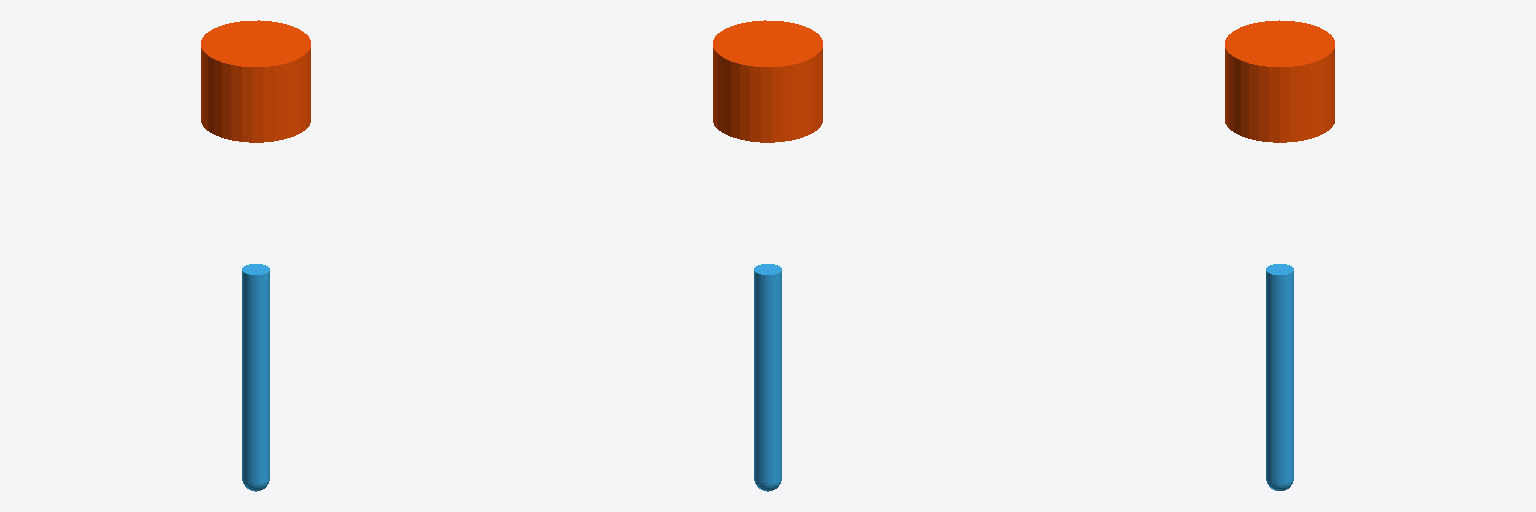
The robot description file, URDF, robot "bravo7":
<?xml version="1.0" encoding="utf-8"?>
<robot name="bravo7">
<material name="green2">
  <color rgba="0.235 0.702 0.443 1"/>
</material>

<material name="blue">
  <color rgba="0.263 0.733 0.984 1"/>
</material>

<material name="trans_black">
  <color rgba="0.8 0.8 0.8 1"/>
</material>

<material name="black2">
  <color rgba="0.8 0.8 0.8 1"/>
</material>


<material name="orange">
  <color rgba="1 0.369 0.047 1"/>
</material>

<material name="green">
  <color rgba="0 1 0 0.5"/>
</material>

<material name="bravo_black">
  <color rgba="0.3 0.3 0.3 0.7"/>
</material>

<material name="bravo_jaws_black">
    <color rgba="0.3 0.3 0.3 1"/>
</material>


<link name="bravo_base_link"/>


<link name="link1">
    <visual>
        <geometry>
            <mesh filename="package://bravo_description/meshes/RS2-266.stl"/>
        </geometry>
        <material name="blue"/>
    </visual>
</link>

        <joint name="base_fixed" type="fixed">
            <parent link="bravo_base_link"/>
            <child link="link1"/>
            <origin rpy="0 0 0"/>
        </joint>

<link name="link2">
    <visual>
        <geometry>
            <mesh filename="package://bravo_description/meshes/RS2-217.stl"/>
        </geometry>
        <material name="green2"/>
        </visual>
</link>

        <joint name="joint1" type="revolute">
            <parent link="link1"/>
            <child link="link2"/>
            <origin rpy="0 0 0" xyz="0.0665 0 0.078"/>
            <axis xyz="0 0 -1"/>
            <limit effort="9.0" lower="0.0" upper="6.3" velocity="0.5"/>
        </joint>

<link name="link3">
    <visual>
        <geometry>
            <mesh filename="package://bravo_description/meshes/RS2-250-212-214.stl"/>
        </geometry>
        <material name="blue"/>
    </visual>
</link>

        <joint name="joint2" type="revolute">
            <parent link="link2"/>
            <child link="link3"/>
            <origin rpy="0 0 0" xyz="-0.046 0 0.0674"/>
            <axis xyz="0 1 0"/>
            <limit effort="9.0" lower="0.0" upper="3.5" velocity="0.5"/>
        </joint>

<link name="link4">
    <visual>
        <geometry>
            <mesh filename="package://bravo_description/meshes/RS2-268.stl"/>
        </geometry>
        <material name="green2"/>
    </visual>
</link>

        <joint name="joint3" type="revolute">
            <parent link="link3"/>
            <child link="link4"/>
            <origin rpy="0 0 0" xyz="-0.0052 0 -0.29055"/>
            <axis xyz="0 1 0"/>
            <limit effort="9.0" lower="0.0" upper="3.5" velocity="0.5"/>
        </joint>


<link name="link5">
    <visual>
        <geometry>
            <mesh filename="package://bravo_description/meshes/RS2-214.stl"/>
        </geometry>
        <material name="blue"/>
    </visual>
</link>

        <joint name="joint4" type="revolute">
            <parent link="link4"/>
            <child link="link5"/>
            <origin rpy="0 0 0" xyz="0.0408 0 0.09695"/>
            <axis xyz="0 0 -1"/>
            <limit effort="9.0" lower="0.0" upper="6.3" velocity="0.5"/>
        </joint>

<link name="link6">
    <visual>
        <geometry>
            <mesh filename="package://bravo_description/meshes/RS2-161.stl"/>
        </geometry>
        <material name="green2"/>
    </visual>
</link>

        <joint name="joint5" type="revolute">
            <parent link="link5"/>
            <child link="link6"/>
            <origin rpy="0 0 0" xyz="-0.0408 0 0.063"/>
            <axis xyz="0 1 0"/>
            <limit effort="9.0" lower="0.0" upper="3.5" velocity="0.5"/>
        </joint>

<link name="link7">
    <visual>
        <geometry>
            <mesh filename="package://bravo_description/meshes/RS2-180.stl"/>
        </geometry>
        <material name="blue"/>
    </visual>
</link>

<link name="force_torque_sensor">
    <visual>
        <geometry>
            <cylinder length="0.06" radius="0.04"/>
        </geometry>
        <material name="orange"/>
    </visual>
</link>

        <joint name="FT_fixed_1" type="fixed">
            <origin rpy="0 0 1.57" xyz=" 0 0 -0.03"/>
            <parent link="link7"/>
            <child link="force_torque_sensor"/>
        </joint>

        <joint name="joint6" type="revolute">
            <parent link="link6"/>
            <child link="link7"/>
            <origin rpy="0 3.14159 0" xyz="-0.0408 0 -0.14863"/>
            <axis xyz="0 0 -1"/>
            <limit effort="9.0" lower="0.0" upper="6.3" velocity="0.5"/>
        </joint>

        <joint name="bravo_jaws_joint" type="fixed">
            <origin rpy="0 0 0" xyz=" 0 0 0.124"/>
            <parent link="link7"/>
            <child link="bravo_jaws_base_link"/>
        </joint>

<link name="bravo_jaws_base_link"/>           

<!-- contact_point_joint -->
        <joint name="contact_point_joint" type="fixed">
            <!-- 0.16/0.185 for plastic/metal tool with boardmarker-->
            <!-- 0.15/0.21 for blue/white polymer tool with sponge -->
            <origin rpy="0 0 0" xyz="0 0 0.315"/>
            <parent link="force_torque_sensor"/>
            <child link="contact_point"/>
        </joint>

<!-- contact_point -->
  <link name="contact_point">
    <visual>
      <origin rpy="0 0 0" xyz="0 0 0"/>
      <geometry>
        <sphere radius="0.01"/>
      </geometry>
      <material name="blue"/>
    </visual>
  </link>

<link name="end_effector">
    <visual>
      <origin rpy="0 0 0" xyz="0 0 0"/>
      <geometry>
        <cylinder radius="0.01" length="0.165"/>
      </geometry>
      <material name="blue"/>
    </visual>
</link>


        <joint name="tool" type="fixed">
            <parent link="contact_point"/>
            <child link="end_effector"/>
            <origin rpy="0 0 0" xyz="0 0 -0.083"/>
        </joint>

</robot>

--- What the picture shows (computed from the rendered views, not written in the file) ---
3 views of the same robot in one strip: view 1: azimuth 30°, elevation 25°; view 2: azimuth 150°, elevation 25°; view 3: azimuth 270°, elevation 25° (orthographic).
Model bravo7 with 12 links and 11 joints (6 revolute, 5 fixed), rooted at bravo_base_link, posed all joints at 0.
Links seen in each view (by area): view 1: force_torque_sensor, end_effector; view 2: force_torque_sensor, end_effector; view 3: force_torque_sensor, end_effector.
Boxes of the visible links, x1,y1,x2,y2 form: force_torque_sensor: (201, 20, 310, 142); end_effector: (242, 264, 269, 482); force_torque_sensor: (713, 20, 822, 142); end_effector: (754, 264, 781, 482); force_torque_sensor: (1225, 20, 1334, 142); end_effector: (1266, 264, 1293, 482).
Size in the robot's own frame: 0.08 by 0.08 by 0.355 metres.
0 mesh visuals loaded from 7 distinct referenced files (none loaded); not drawn: 7 (reference not matched to a file when rendering).